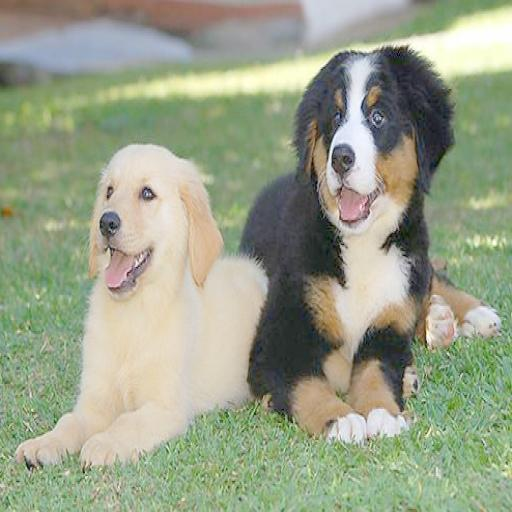dog_face: (290, 36, 441, 234), (88, 135, 221, 294)
